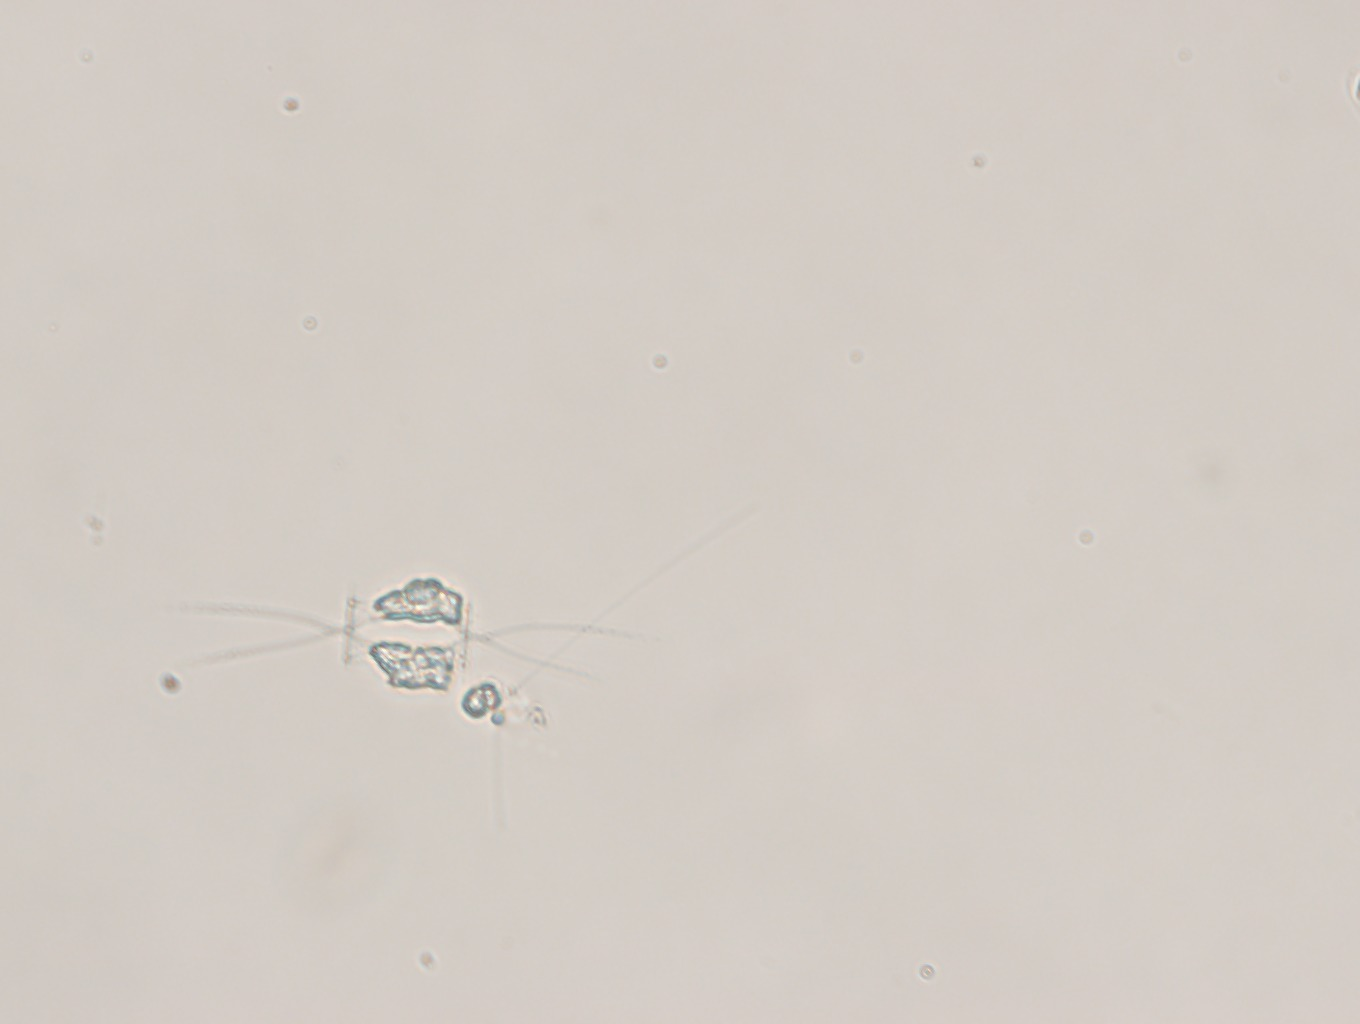chaetoceros: (174, 577, 635, 691)
